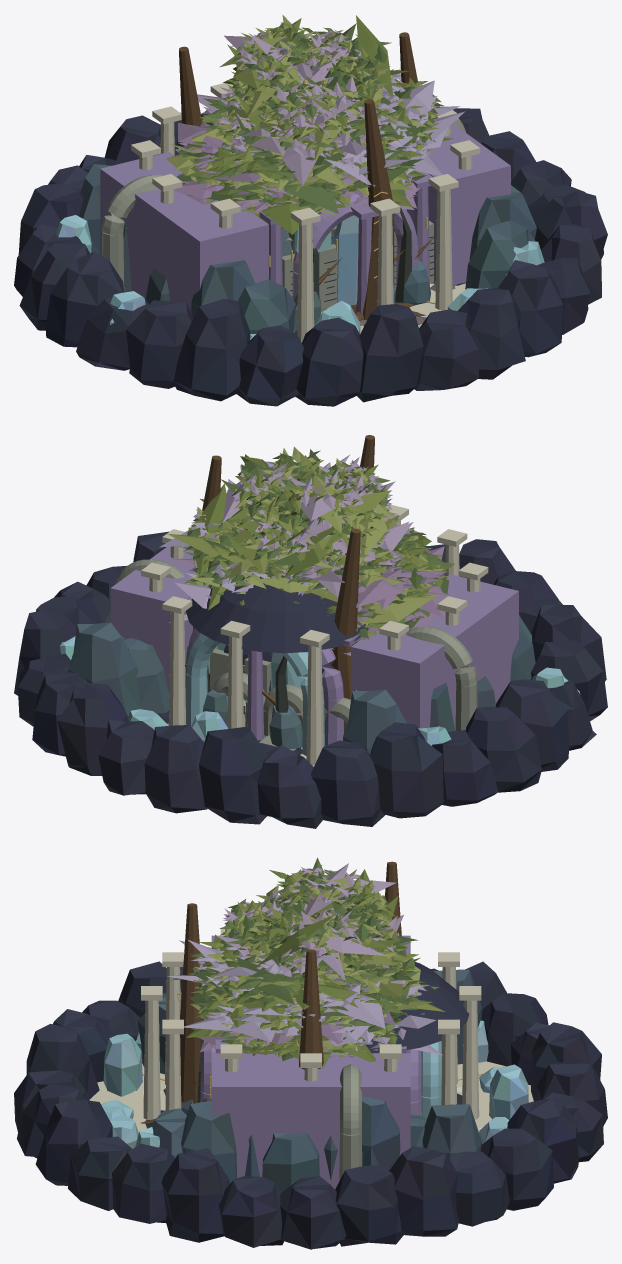
Rendered from environment-kit.glb.
3 views of the same model, one above another, from view 1: azimuth 30°, elevation 25°; view 2: azimuth 150°, elevation 25°; view 3: azimuth 270°, elevation 25° (orthographic).
Visible parts, largest first — view 1: site-ember-0_canon, site-violet-0_canon, site-abyss-0_canon, site-sunward-2_canon, woodland-2_leaves, site-deepwood-0_canon, oak-2_leaves, silver-tree-2_leaves, site-frost-0_canon, ancient-oak_leaves, silver-tree-4-distant_leaves, woodland-2-distant_leaves (+22 smaller); view 2: site-ember-0_canon, site-violet-0_canon, site-abyss-0_canon, site-sunward-2_canon, site-abyss-1_canon, oak-2_leaves, woodland-2_leaves, site-deepwood-0_canon, silver-tree-2_leaves, site-violet-1_canon, woodland-2-distant_leaves, site-frost-0_canon (+23 smaller); view 3: site-ember-0_canon, site-violet-0_canon, site-abyss-0_canon, site-sunward-2_canon, site-frost-0_canon, site-deepwood-0_canon, woodland-2_leaves, oak-2_leaves, oak-4_leaves, woodland-4_leaves, silver-tree-4-distant_leaves, silver-tree-2_leaves (+11 smaller).
Boxes of the visible parts, left/top/right/bottom form: site-ember-0_canon: left=14, top=108, right=607, bottom=406; site-violet-0_canon: left=100, top=110, right=510, bottom=312; site-abyss-0_canon: left=79, top=119, right=536, bottom=333; site-sunward-2_canon: left=131, top=83, right=480, bottom=342; woodland-2_leaves: left=227, top=27, right=388, bottom=158; site-deepwood-0_canon: left=179, top=32, right=425, bottom=320; oak-2_leaves: left=223, top=15, right=390, bottom=142; silver-tree-2_leaves: left=229, top=30, right=386, bottom=154; site-frost-0_canon: left=55, top=215, right=544, bottom=339; ancient-oak_leaves: left=171, top=144, right=423, bottom=223; silver-tree-4-distant_leaves: left=232, top=69, right=465, bottom=185; woodland-2-distant_leaves: left=223, top=23, right=391, bottom=160; site-ember-0_canon: left=14, top=531, right=607, bottom=828; site-violet-0_canon: left=110, top=545, right=518, bottom=740; site-abyss-0_canon: left=68, top=559, right=535, bottom=754; site-sunward-2_canon: left=141, top=504, right=488, bottom=765; site-abyss-1_canon: left=185, top=633, right=324, bottom=755; oak-2_leaves: left=230, top=447, right=396, bottom=574; woodland-2_leaves: left=231, top=458, right=400, bottom=572; site-deepwood-0_canon: left=193, top=435, right=374, bottom=732; silver-tree-2_leaves: left=232, top=457, right=392, bottom=568; site-violet-1_canon: left=185, top=628, right=343, bottom=745; woodland-2-distant_leaves: left=220, top=454, right=396, bottom=578; site-frost-0_canon: left=60, top=636, right=580, bottom=745; site-ember-0_canon: left=14, top=961, right=607, bottom=1249; site-violet-0_canon: left=180, top=935, right=469, bottom=1189; site-abyss-0_canon: left=137, top=969, right=482, bottom=1191; site-sunward-2_canon: left=141, top=927, right=481, bottom=1119; site-frost-0_canon: left=101, top=1020, right=528, bottom=1148; site-deepwood-0_canon: left=141, top=861, right=401, bottom=1123; woodland-2_leaves: left=218, top=857, right=399, bottom=983; oak-2_leaves: left=222, top=869, right=396, bottom=971; oak-4_leaves: left=190, top=935, right=419, bottom=1057; woodland-4_leaves: left=187, top=946, right=430, bottom=1044; silver-tree-4-distant_leaves: left=167, top=939, right=442, bottom=1055; silver-tree-2_leaves: left=223, top=865, right=397, bottom=982.
Size of the model in its own units: 29.97 by 14.01 by 29.84.
